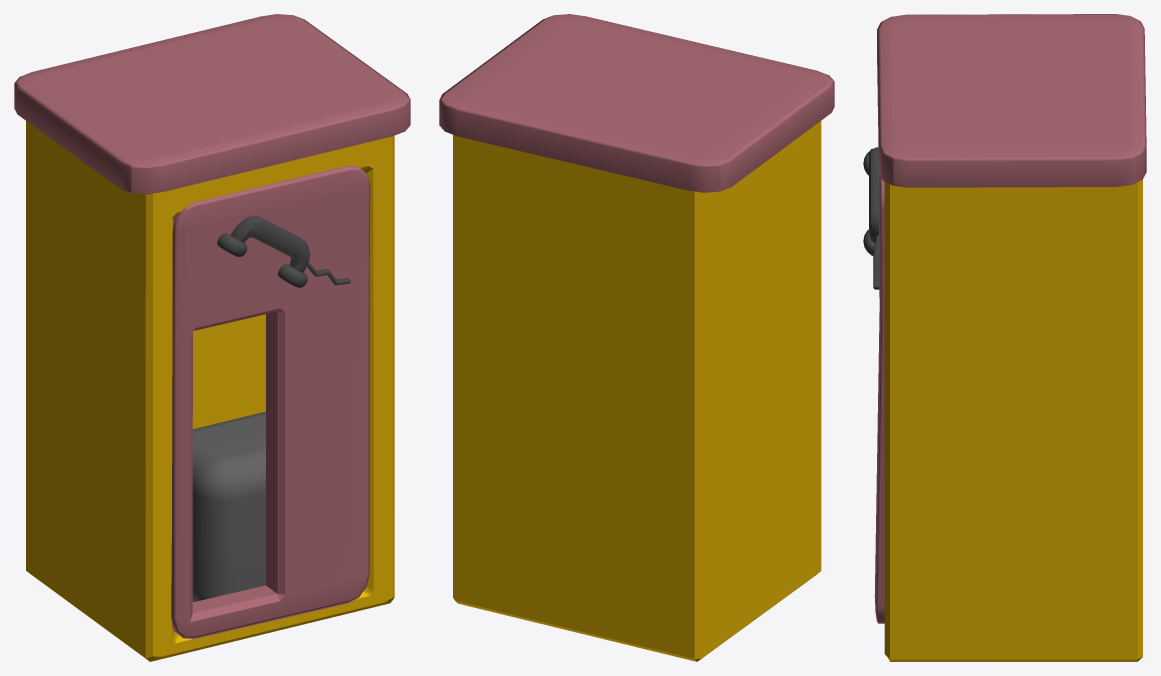
The picture shows the model from 3 angles, left to right: view 1: azimuth 30°, elevation 25°; view 2: azimuth 150°, elevation 25°; view 3: azimuth 270°, elevation 25°; orthographic projection. The views are drawn at different scales.
Parts seen in each view (by area): view 1: polySurface95; view 2: polySurface95; view 3: polySurface95.
Part boxes in pixels (left/top/right/bottom): polySurface95: left=14, top=14, right=410, bottom=661; polySurface95: left=439, top=14, right=834, bottom=661; polySurface95: left=863, top=14, right=1146, bottom=661.
Size of the model in its own units: 28.22 by 46.73 by 23.15.
